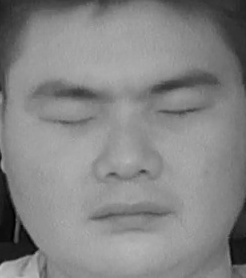blink: (40, 103, 97, 138), (160, 92, 207, 126)
mouth: (87, 189, 173, 235)
